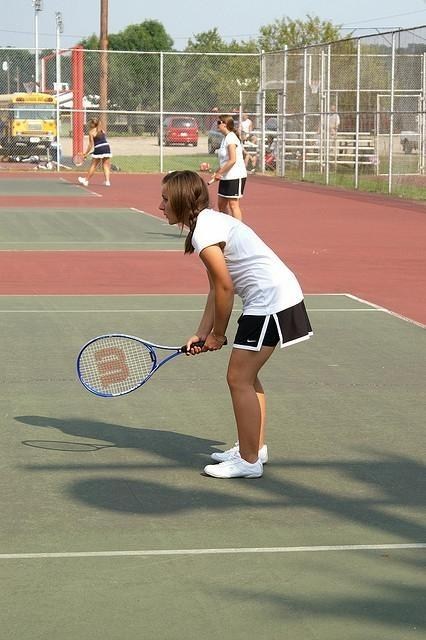bus: (2, 93, 61, 147)
car: (156, 116, 200, 146), (208, 122, 238, 154), (400, 131, 420, 154)
